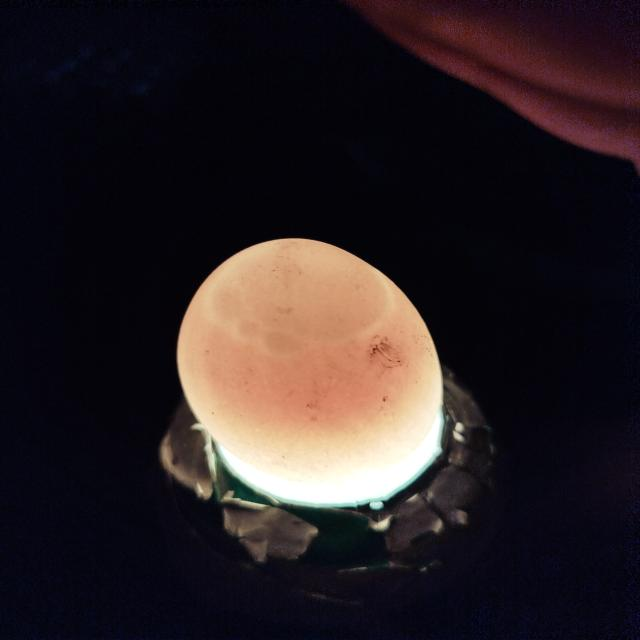Camara de Ar: (202, 238, 393, 356)
